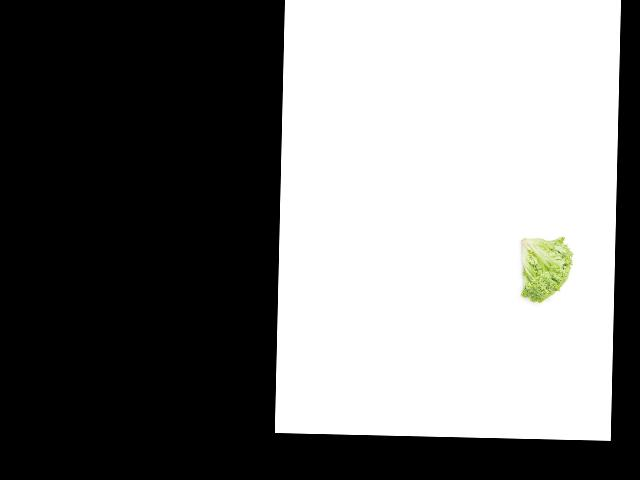lettuce: (513, 233, 577, 307)
